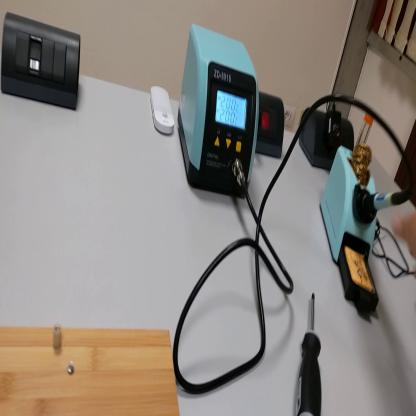hand: (394, 206, 416, 261)
screwdriver-: (296, 295, 323, 416)
socket: (298, 106, 356, 177), (257, 91, 287, 160)
welder base: (324, 96, 381, 321)
welder probe tip: (363, 193, 416, 214)
welder station: (175, 19, 259, 198)
working area: (2, 327, 181, 416)
